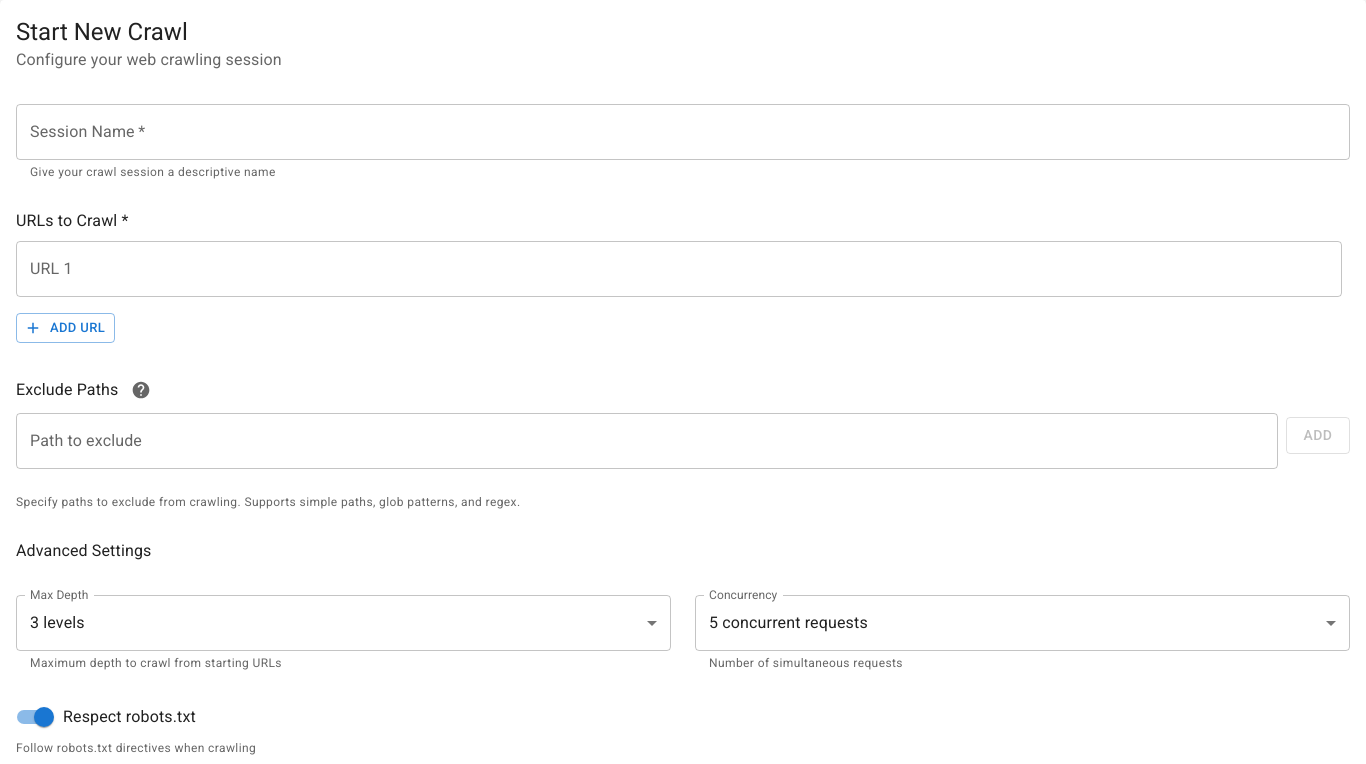
it: CrawlForm - Path Exclusion Features › Exclusion Path Management › should handle Enter key to add paths
This screenshot has width=1366, height=764.
Step 1. Type "/admin" into the field labelled "Path to exclude" → (647, 441), box top-left (16, 413), bottom-right (1278, 469)
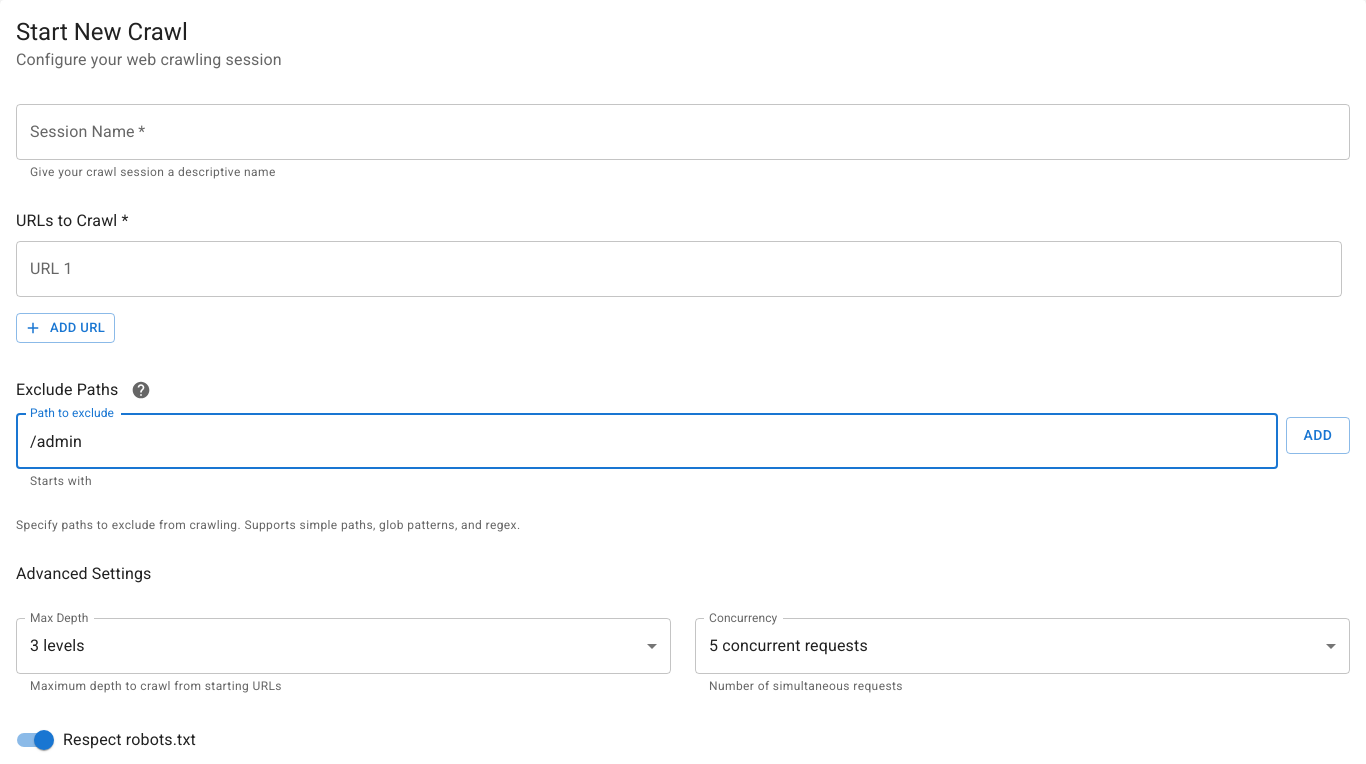
Step 2. Press Enter
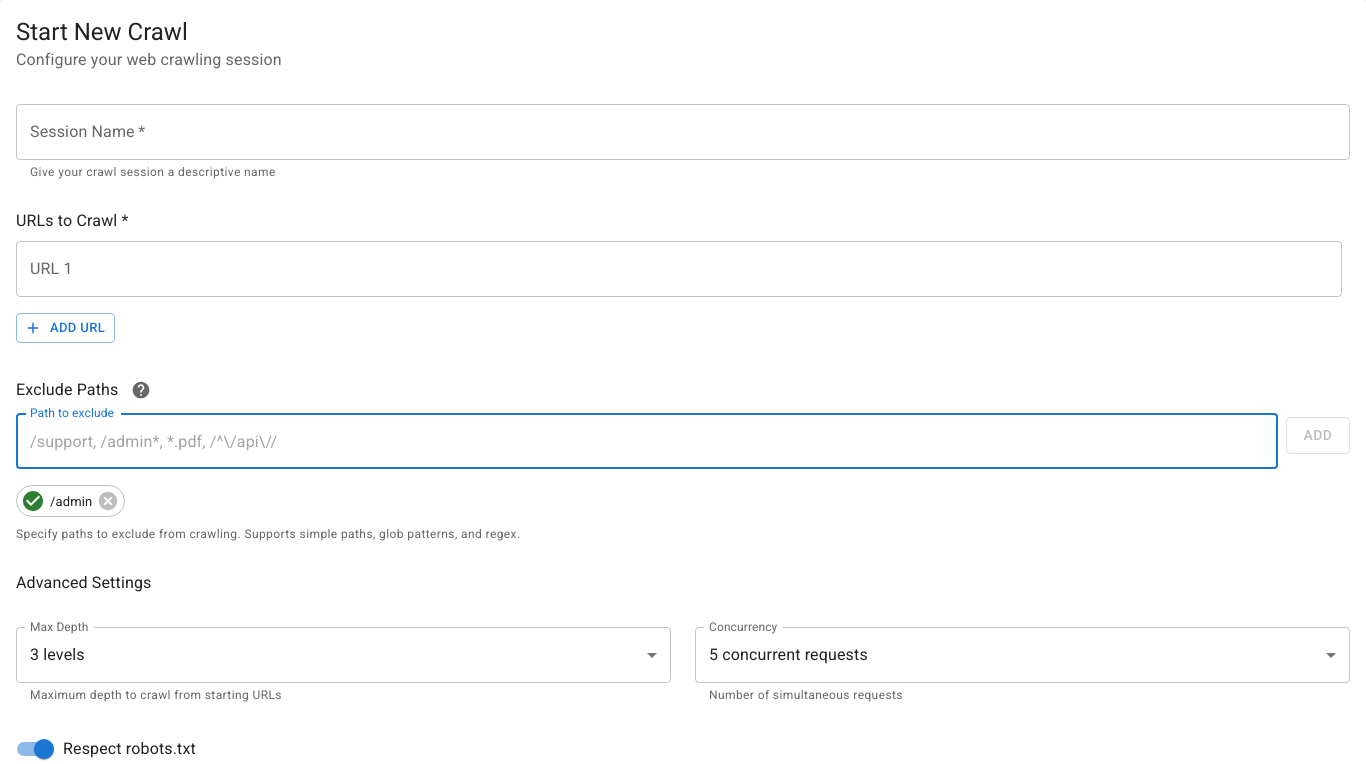
Expected: the text "/admin" is shown, top-left (50, 494), bottom-right (92, 508)
Expected: the field labelled "Path to exclude" is empty, top-left (16, 413), bottom-right (1278, 469)
